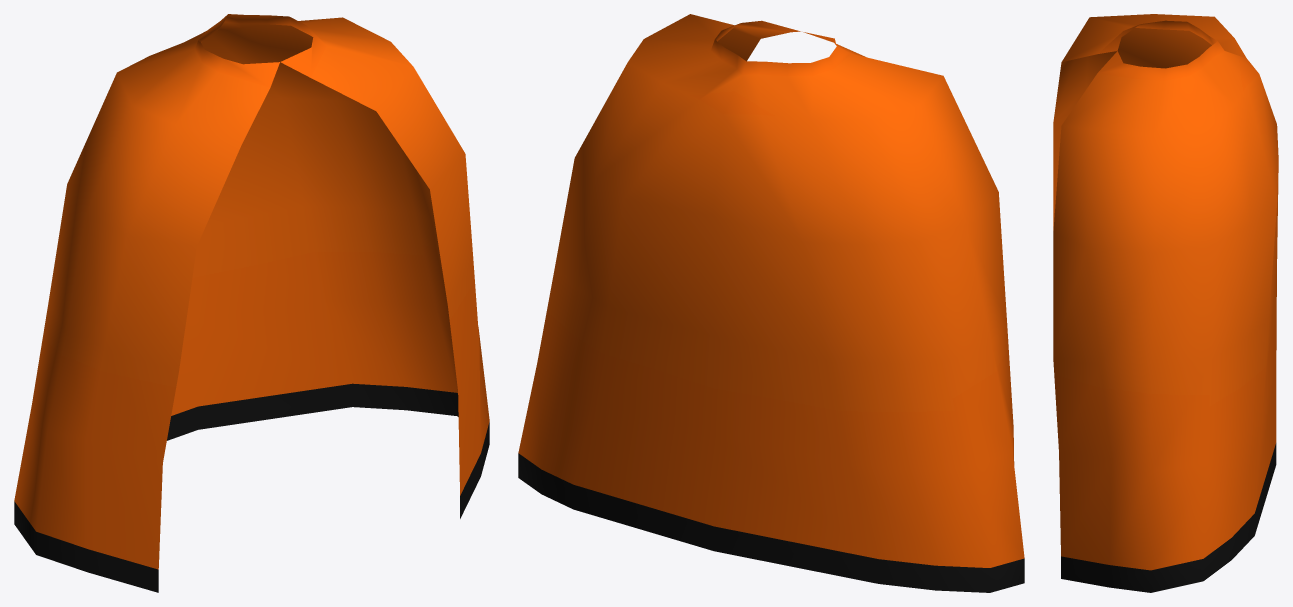
Rendered from Jubah_NPC_1.fbx.
3 views of the same model, side by side, from view 1: azimuth 30°, elevation 25°; view 2: azimuth 150°, elevation 25°; view 3: azimuth 270°, elevation 25° (orthographic). The views are drawn at different scales.
Visible parts, largest first — view 1: Jubahh.001; view 2: Jubahh.001; view 3: Jubahh.001.
Part boxes in pixels (x1,y1,x2,y2): Jubahh.001: (14,14,489,592); Jubahh.001: (518,14,1024,592); Jubahh.001: (1053,14,1278,592).
Size of the model in its own units: 84.04 by 85.48 by 37.42.
